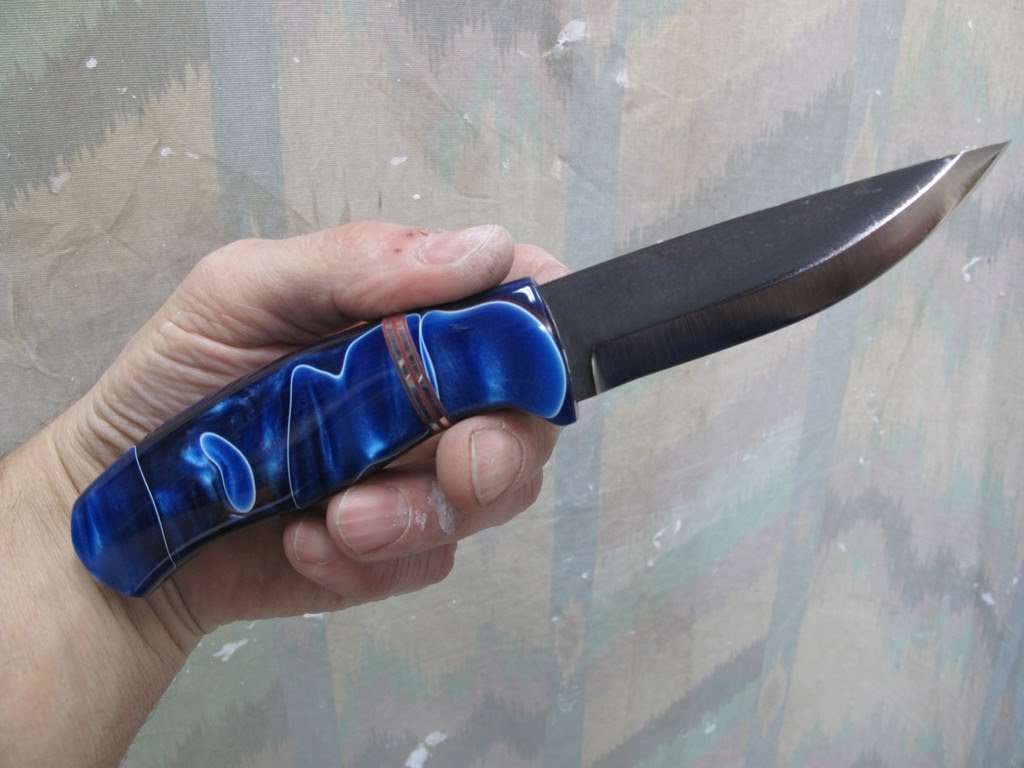knife: (318, 131, 1019, 572)
